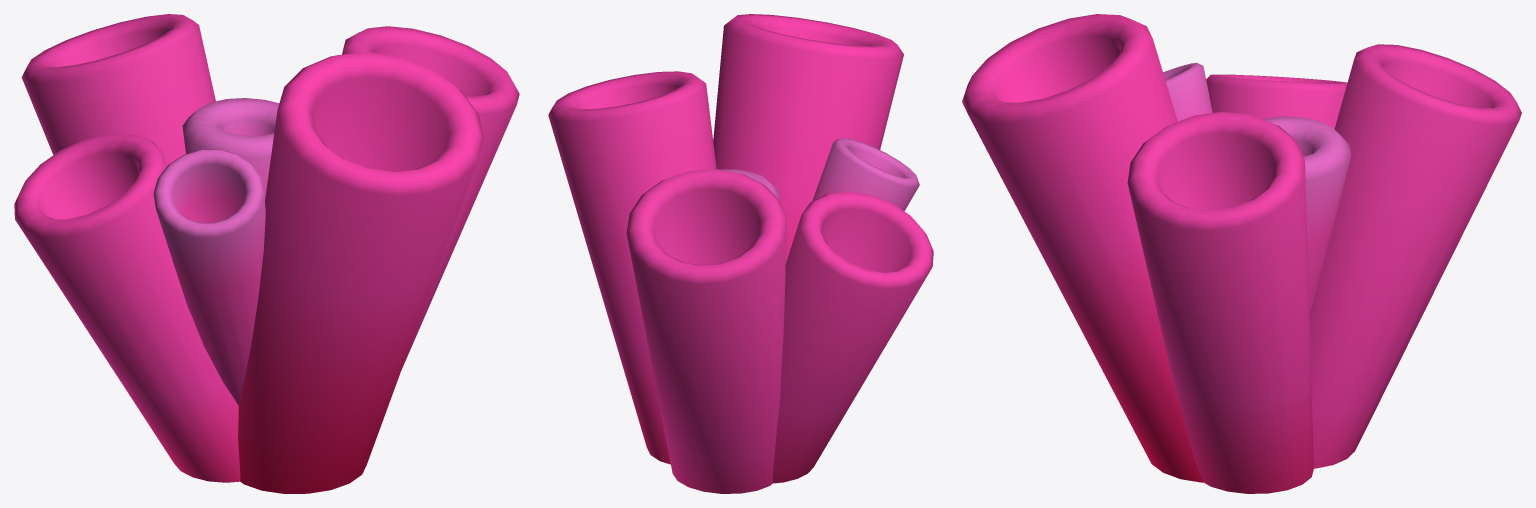
The model's file is Pink_Coral_02.fbx.
3 views of the same model, side by side, from view 1: azimuth 30°, elevation 25°; view 2: azimuth 150°, elevation 25°; view 3: azimuth 270°, elevation 25° (orthographic). The views are drawn at different scales.
Visible parts, largest first — view 1: Pink_Coral_02; view 2: Pink_Coral_02; view 3: Pink_Coral_02.
Boxes of the visible parts, x1,y1,x2,y2 form: Pink_Coral_02: [14, 14, 519, 493]; Pink_Coral_02: [548, 14, 933, 493]; Pink_Coral_02: [962, 14, 1521, 493].
Bounding box in the file's own units: 123 × 114 × 137.
